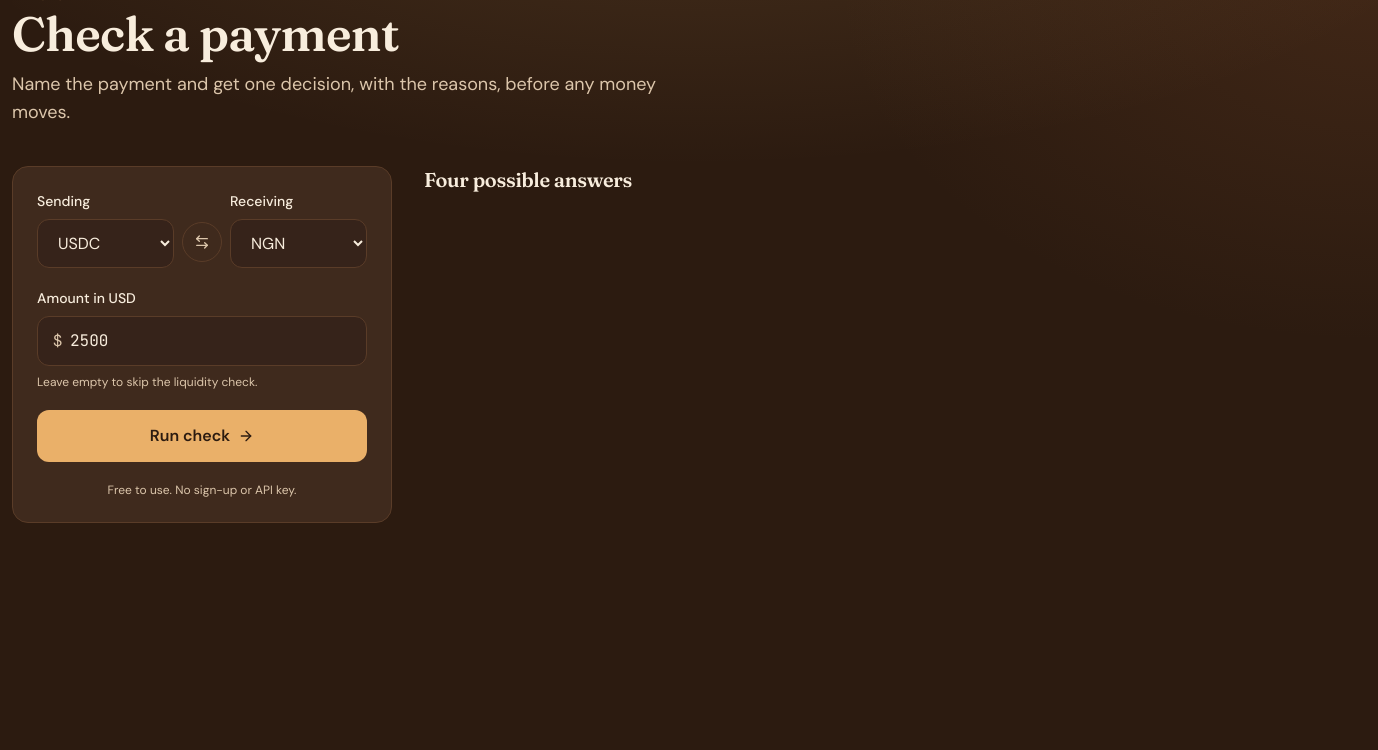
it: PredictionForm (Check a payment) › runs the check and shows the decision, checks and healthier routes
The width and height of the screenshot is (1378, 750).
Click the button "Run check".
click(202, 436)  # box [37,410,367,462]
(page scrolled)
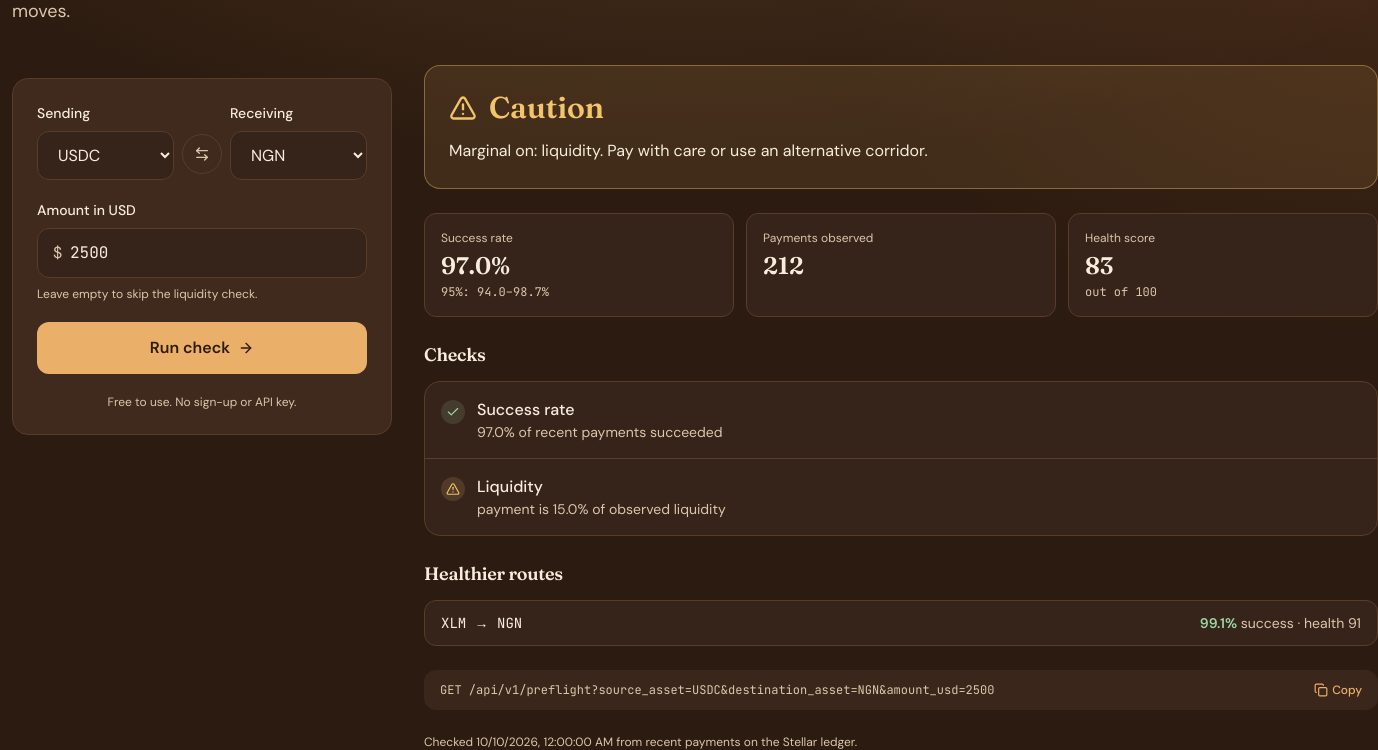
Expected: the element with test id "preflight-result" is shown
Expected: the text "Marginal on: liquidity. Pay with care or use an alternative corridor." is shown, [449,140,928,161]
Expected: the text "payment is 15.0% of observed liquidity" is shown, [477,499,726,519]
